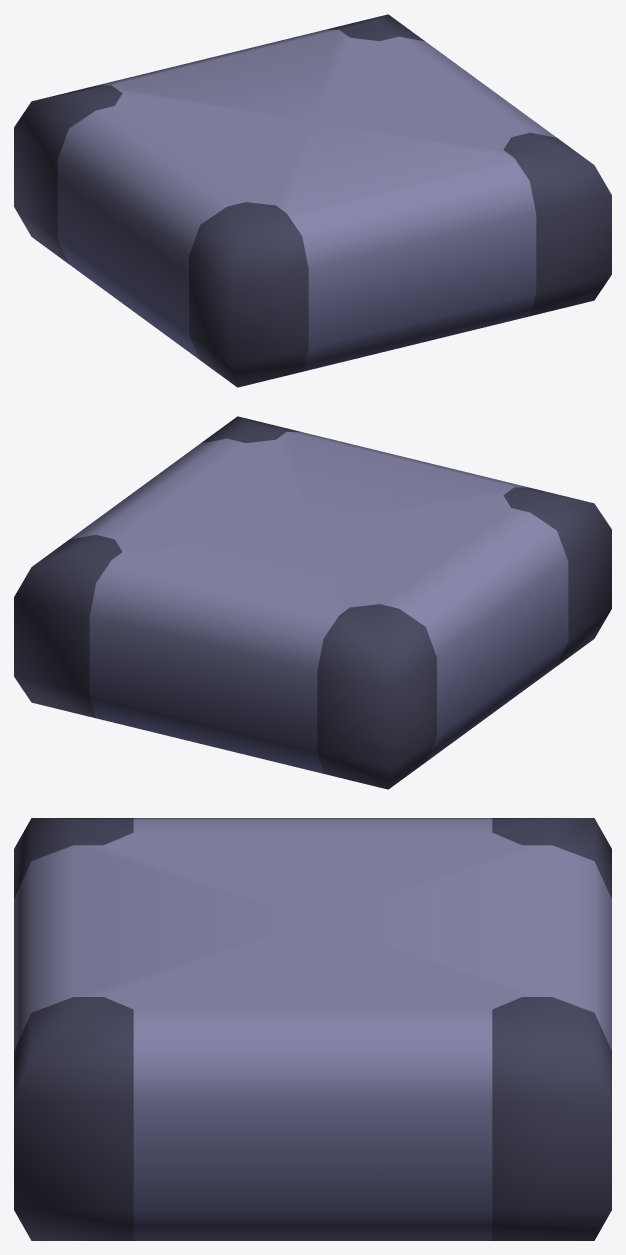
Rendered from kenney-factory-conveyor-stripe-cross.glb.
3 views of the same model, one above another, from view 1: azimuth 30°, elevation 25°; view 2: azimuth 150°, elevation 25°; view 3: azimuth 270°, elevation 25° (orthographic). The views are drawn at different scales.
Parts seen in each view (by area): view 1: conveyor-stripe-cross; view 2: conveyor-stripe-cross; view 3: conveyor-stripe-cross.
Boxes of the visible parts, x1=… form: conveyor-stripe-cross: x1=14, y1=14, x2=611, y2=387; conveyor-stripe-cross: x1=14, y1=416, x2=611, y2=789; conveyor-stripe-cross: x1=14, y1=818, x2=611, y2=1240.
Size of the model in its own units: 1.5 by 0.6 by 1.5.
1 material, 1 textured.
